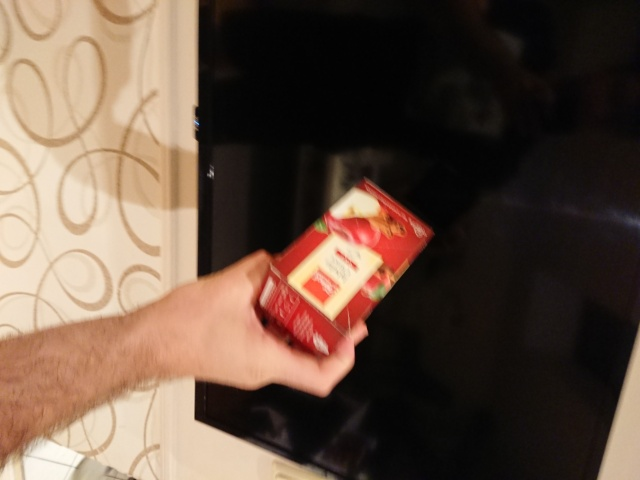Franck Apple Cinnamon Tea 60g: (252, 173, 438, 365)
